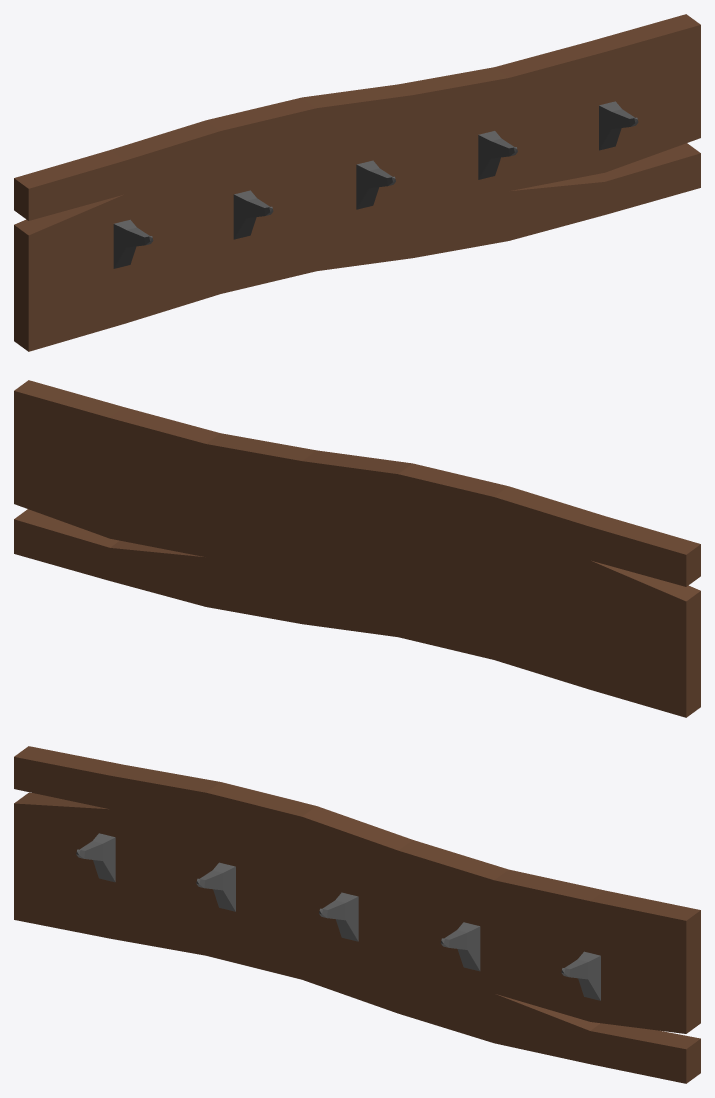
File: hook_board.glb
3 views of the same model, one above another, from view 1: azimuth 30°, elevation 25°; view 2: azimuth 150°, elevation 25°; view 3: azimuth 330°, elevation 25° (orthographic).
Visible parts, largest first — view 1: Board; view 2: Board; view 3: Board.
Part boxes in pixels (x1,y1,x2,y2): Board: (14, 14, 700, 351); Board: (14, 380, 700, 717); Board: (14, 746, 700, 1083).
Bounding box in the file's own units: 2.19 × 0.5608 × 0.2549.
